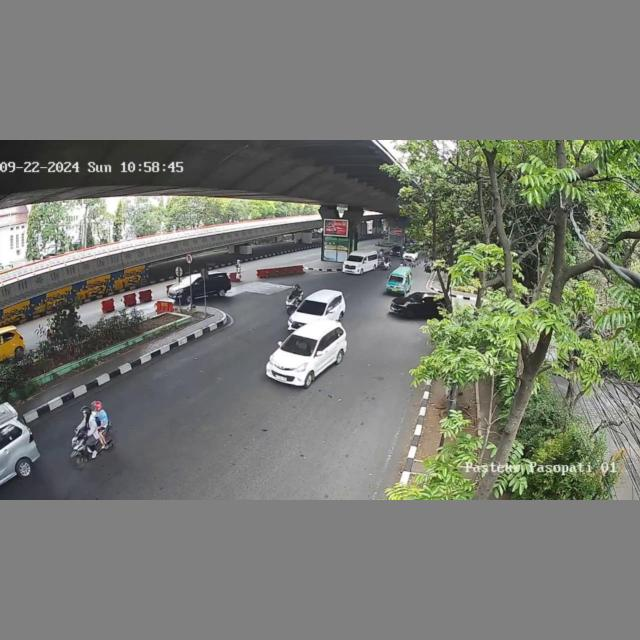windshield: (282, 335, 320, 356), (298, 300, 327, 315), (388, 274, 404, 283)
